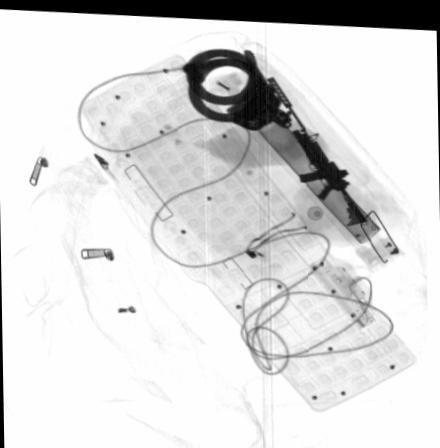Gun: (264, 64, 370, 221)
HandCuffs: (183, 44, 293, 127)
